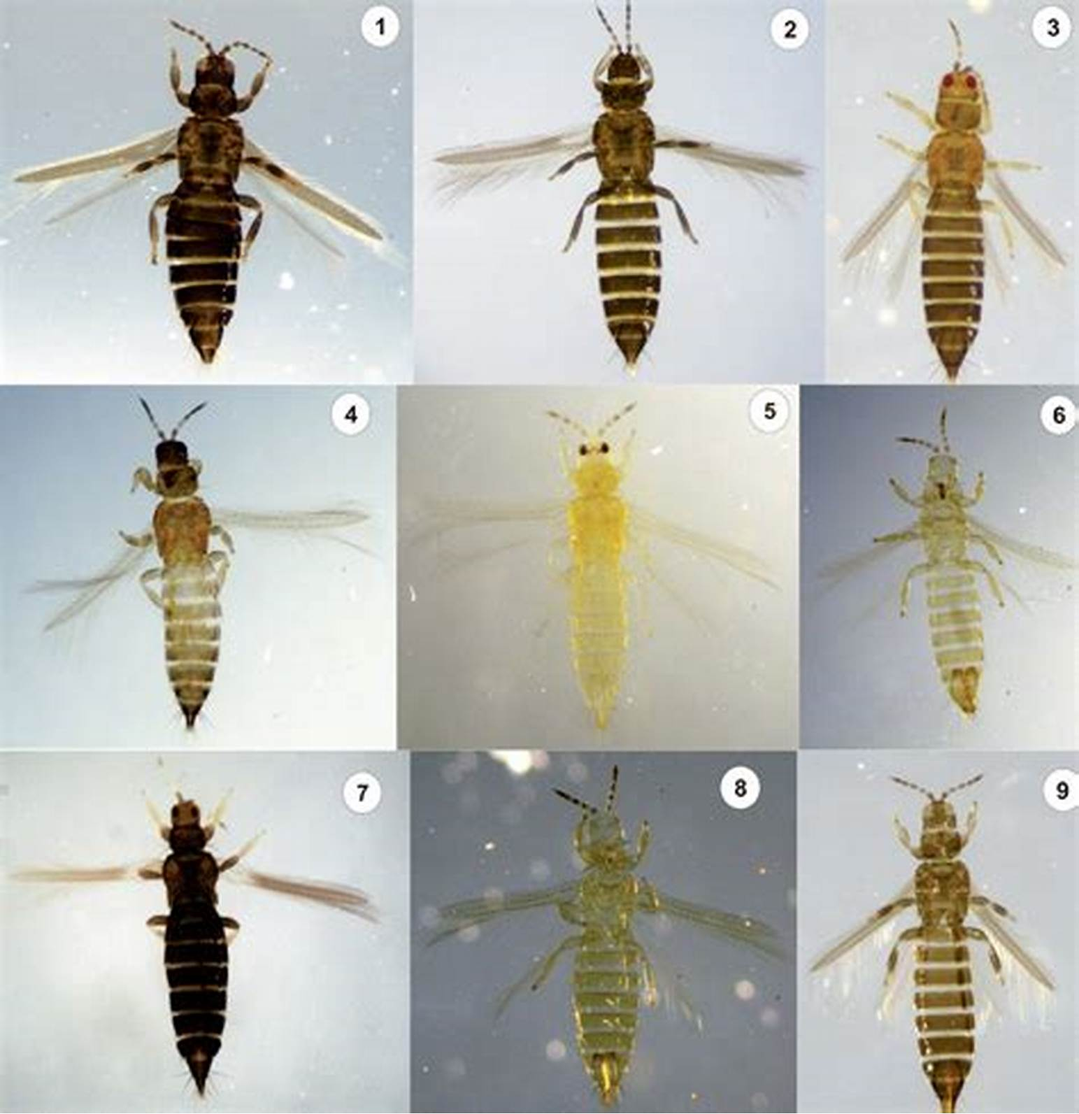Thripidae: (424, 1, 811, 385), (400, 398, 775, 744), (420, 761, 792, 1109), (8, 18, 382, 364), (1, 774, 383, 1096), (20, 397, 366, 732), (808, 774, 1066, 1113), (806, 411, 1079, 724), (843, 20, 1079, 375)
